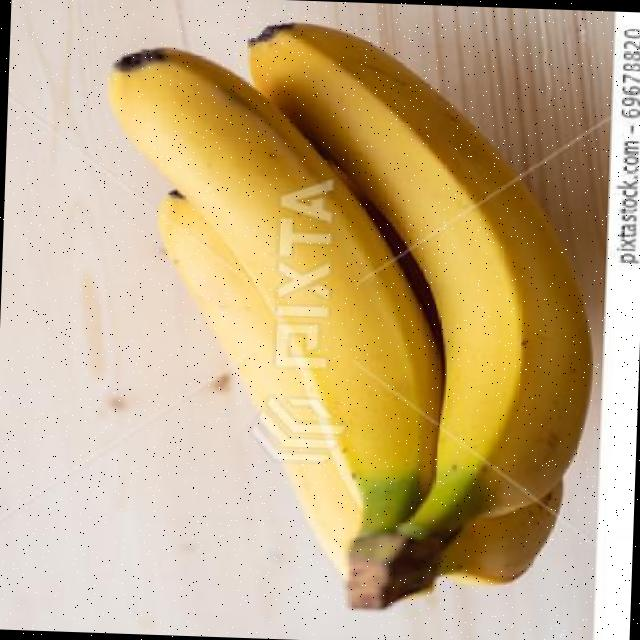banana: (106, 46, 446, 573), (249, 20, 592, 506)
